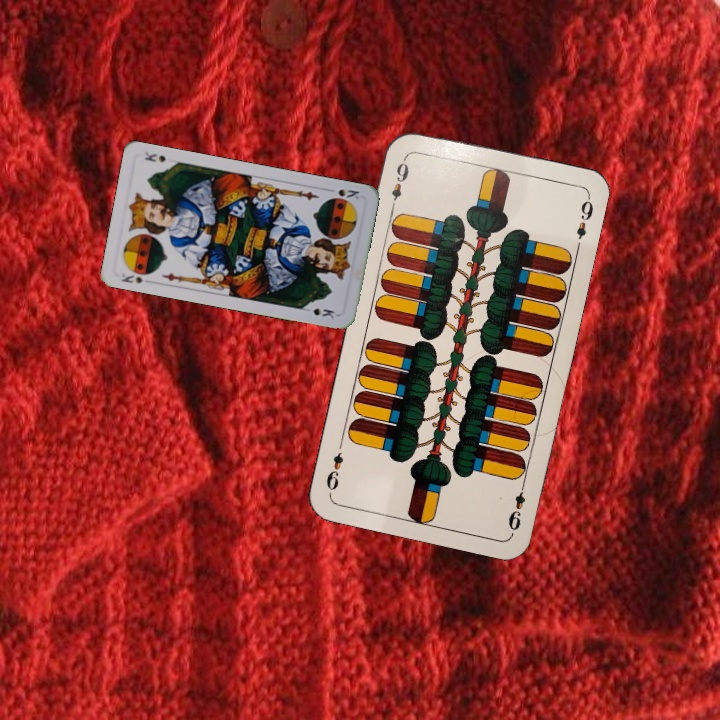E9: (387, 153, 411, 211), (504, 477, 528, 533)
SK: (323, 185, 362, 203), (117, 269, 145, 286)
